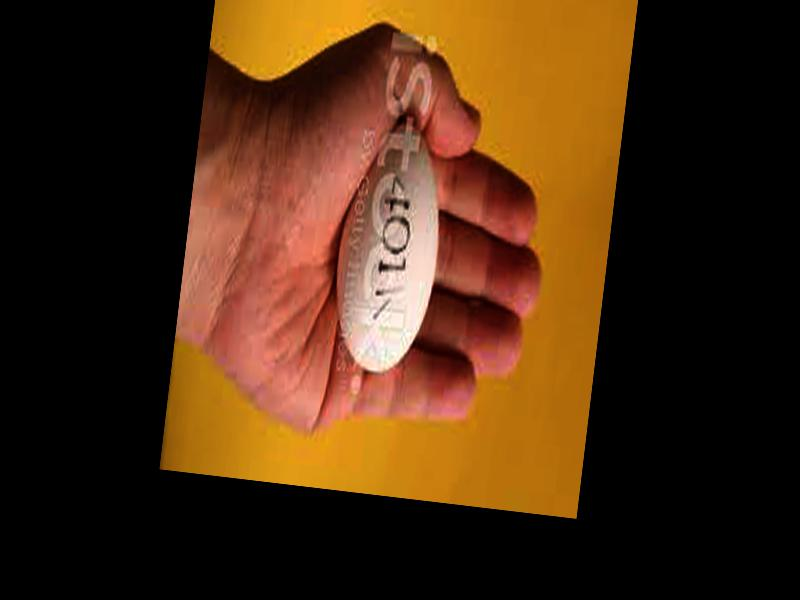Eggs: (326, 117, 451, 377)
